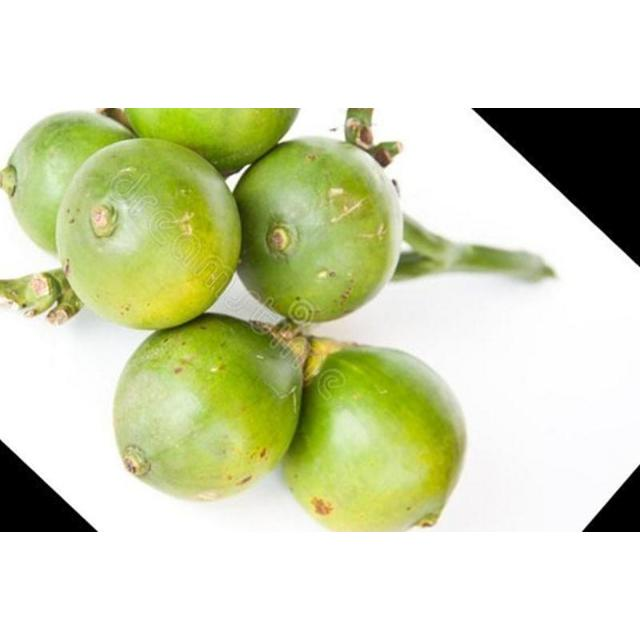good: (114, 316, 302, 494)
